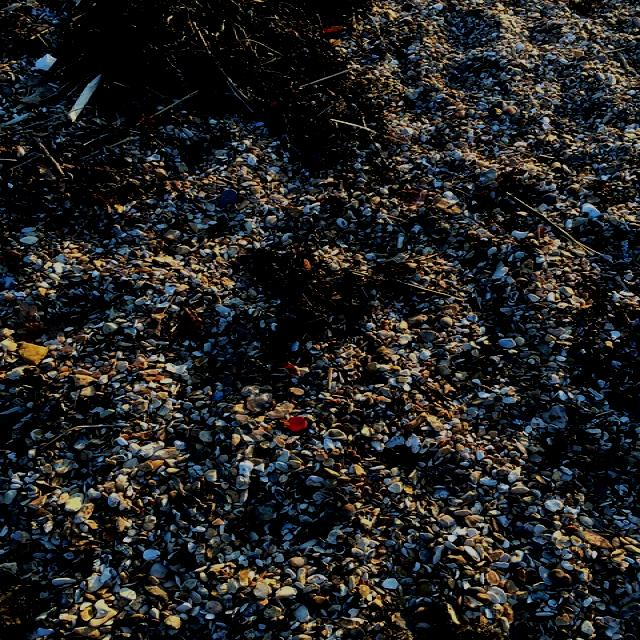Trash: (278, 414, 312, 434)
